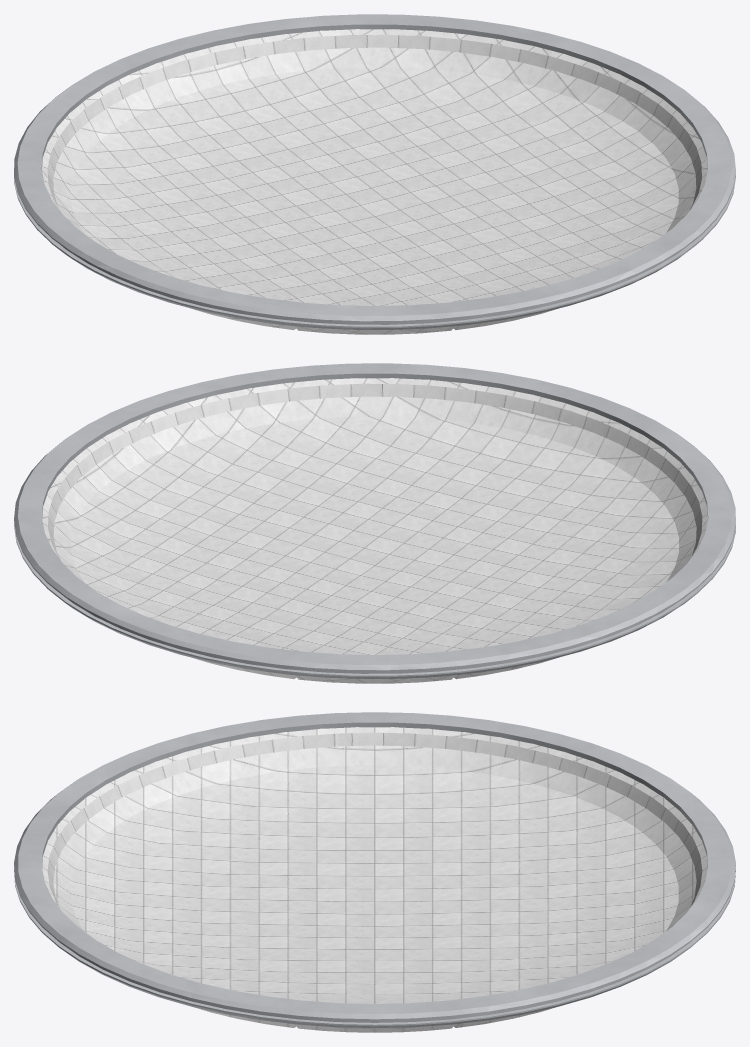
File: ax_cmd_15_heat_shield_l.glb
3 views of the same model, one above another, from view 1: azimuth 30°, elevation 25°; view 2: azimuth 150°, elevation 25°; view 3: azimuth 270°, elevation 25° (orthographic).
Visible parts, largest first — view 1: ablator_dish, carrier_ring; view 2: ablator_dish, carrier_ring; view 3: ablator_dish, carrier_ring.
Part boxes in pixels (box(x1,y1,x2,y2)): ablator_dish: box(42, 29, 707, 334); carrier_ring: box(14, 14, 735, 329); ablator_dish: box(42, 378, 707, 683); carrier_ring: box(14, 363, 735, 678); ablator_dish: box(42, 727, 707, 1032); carrier_ring: box(14, 712, 735, 1027).
Size of the model in its own units: 3.75 by 0.355 by 3.75.
2 materials, 2 textured.
